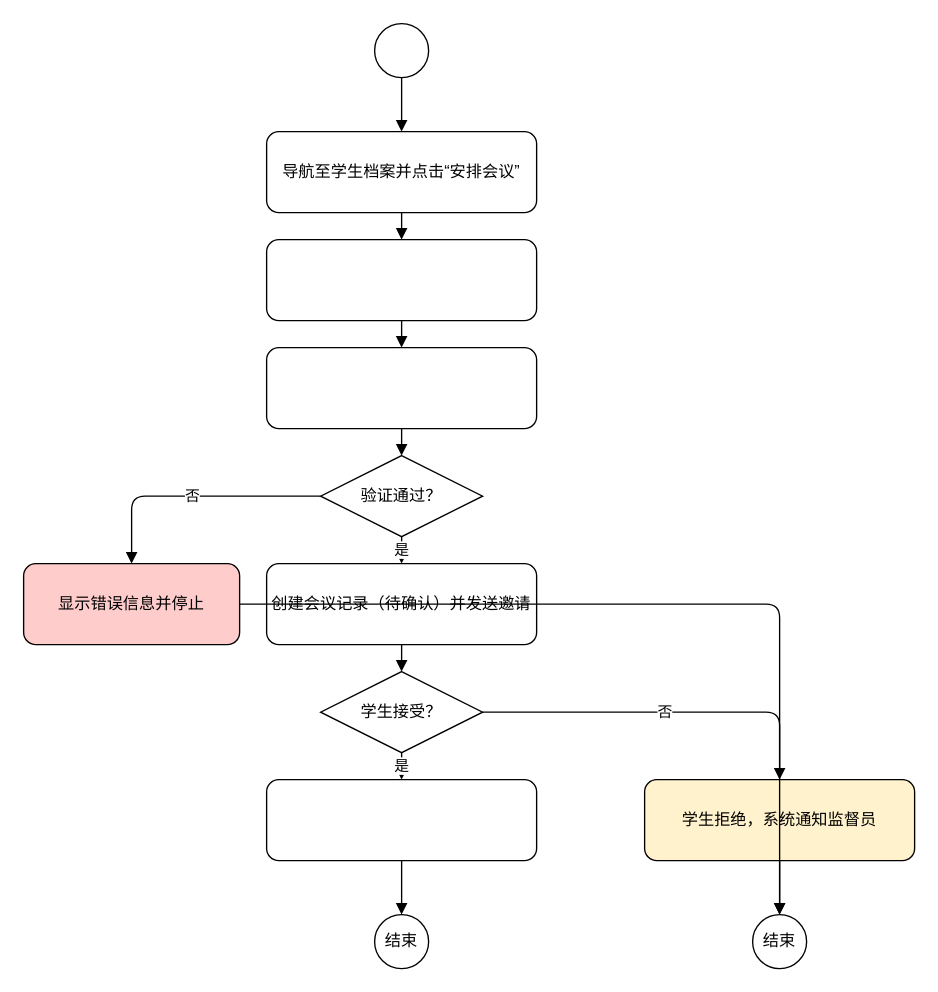
Some shapes in this 938 by 992 pixel diagram are drawn without their labels. Each missing label, with the centre of its shape:
开始: the point at 401,50
更新状态为已确认，发送通知并安排提醒: the point at 401,819
监督员填写会议详情: the point at 401,387
系统展示表单：标题、日期、时间、地点/方式: the point at 401,279
